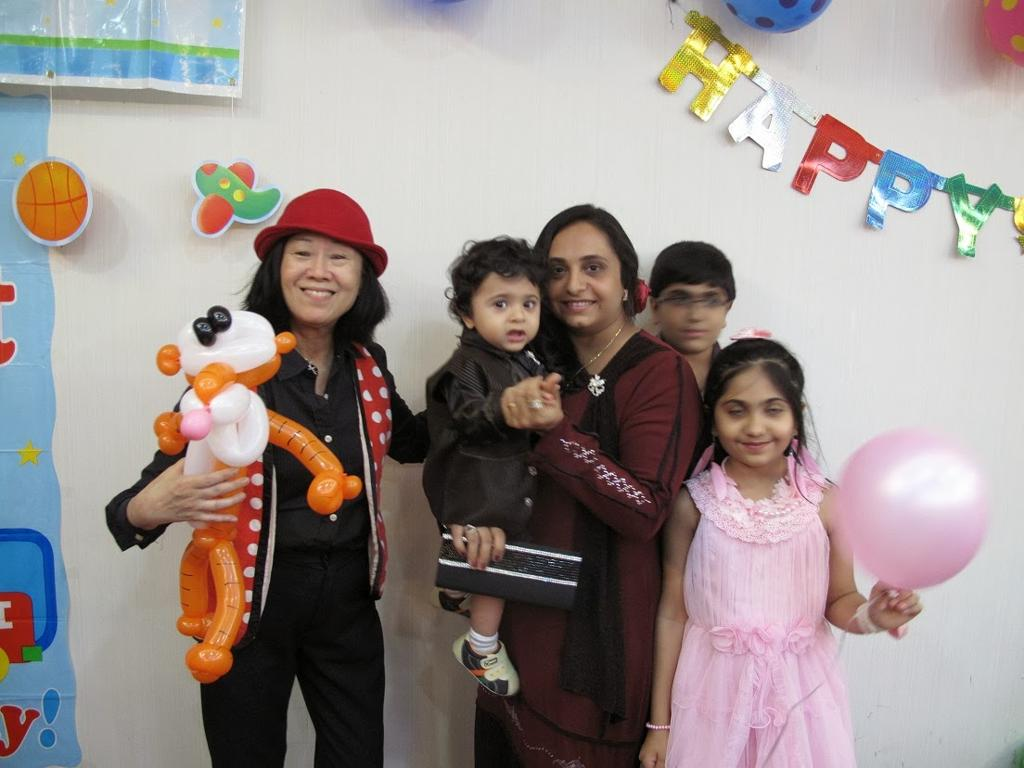face: (282, 220, 360, 322), (548, 224, 626, 326), (720, 366, 796, 466), (656, 272, 724, 352), (474, 270, 540, 350)
